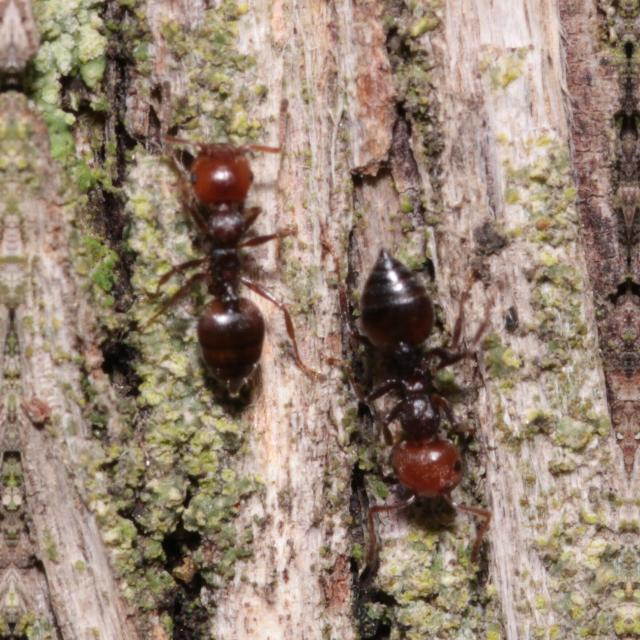Crematogaster: (133, 110, 314, 396), (322, 230, 484, 514)
